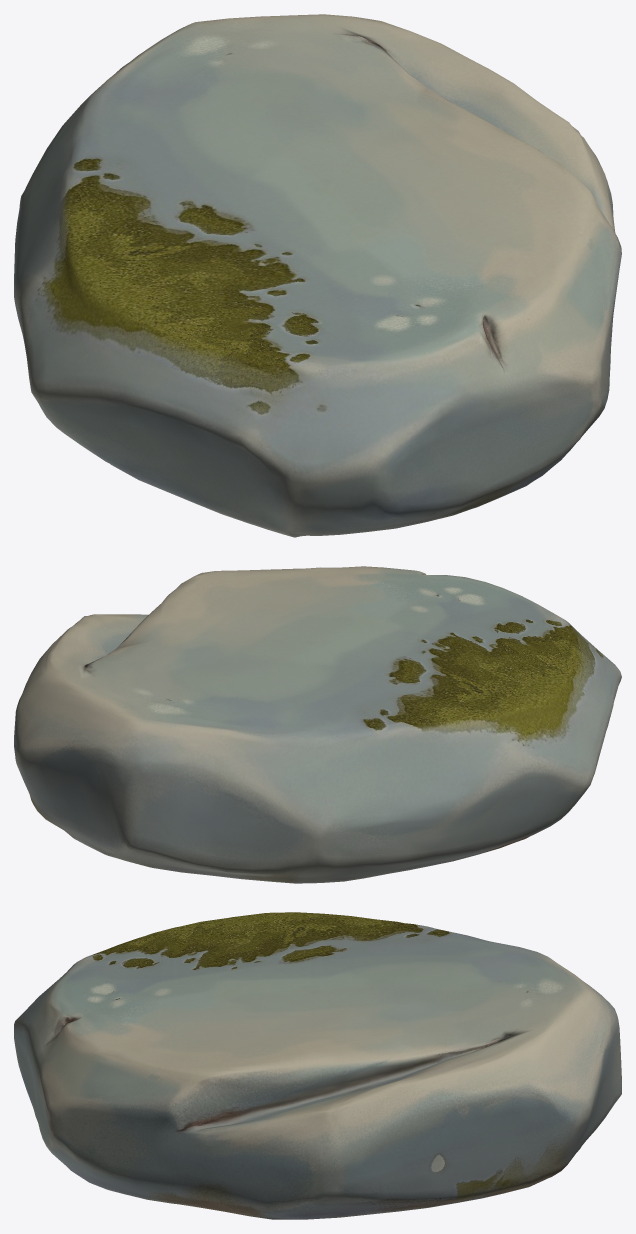
File: tripo_convert_a31cc131-d266-4c1f-8454-7fbaa5af8609.fbx
The picture shows the model from 3 angles, top to bottom: view 1: azimuth 30°, elevation 25°; view 2: azimuth 150°, elevation 25°; view 3: azimuth 270°, elevation 25°; orthographic projection. The views are drawn at different scales.
Visible parts, largest first — view 1: tripo_node_a31cc131; view 2: tripo_node_a31cc131; view 3: tripo_node_a31cc131.
Part boxes in pixels (x1,y1,x2,y2): tripo_node_a31cc131: (14, 14, 621, 537); tripo_node_a31cc131: (14, 566, 621, 883); tripo_node_a31cc131: (14, 912, 621, 1219).
Bounding box in the file's own units: 0.9043 × 0.3301 × 0.998.
Materials: 1 (1 with a texture image).
